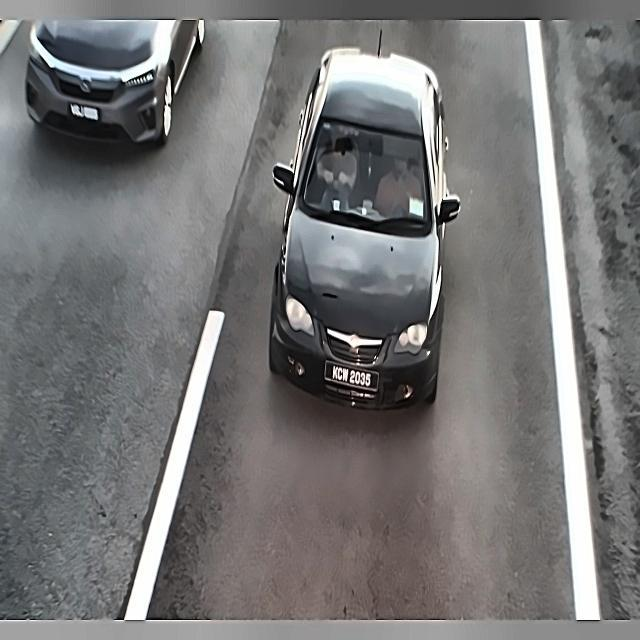car: (323, 352, 381, 398), (65, 97, 102, 129)
